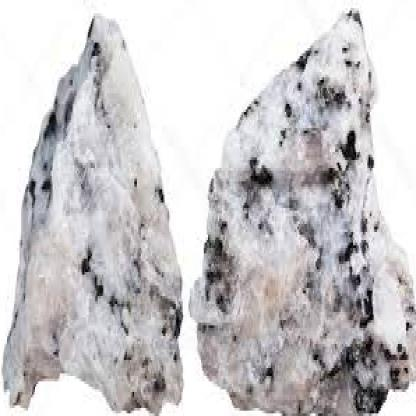Igneous_Diorite: (183, 5, 415, 414), (1, 13, 183, 414)
